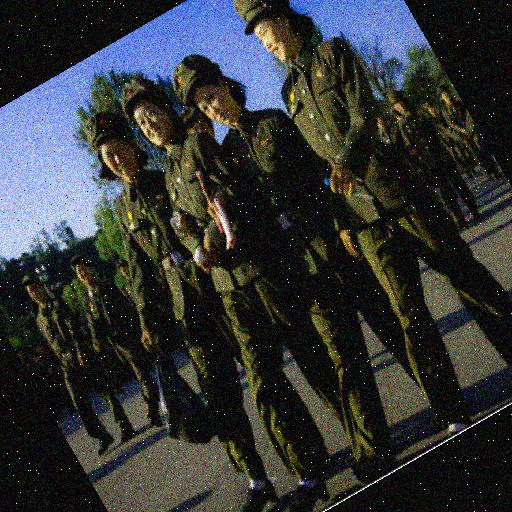north army: (100, 27, 499, 472)
